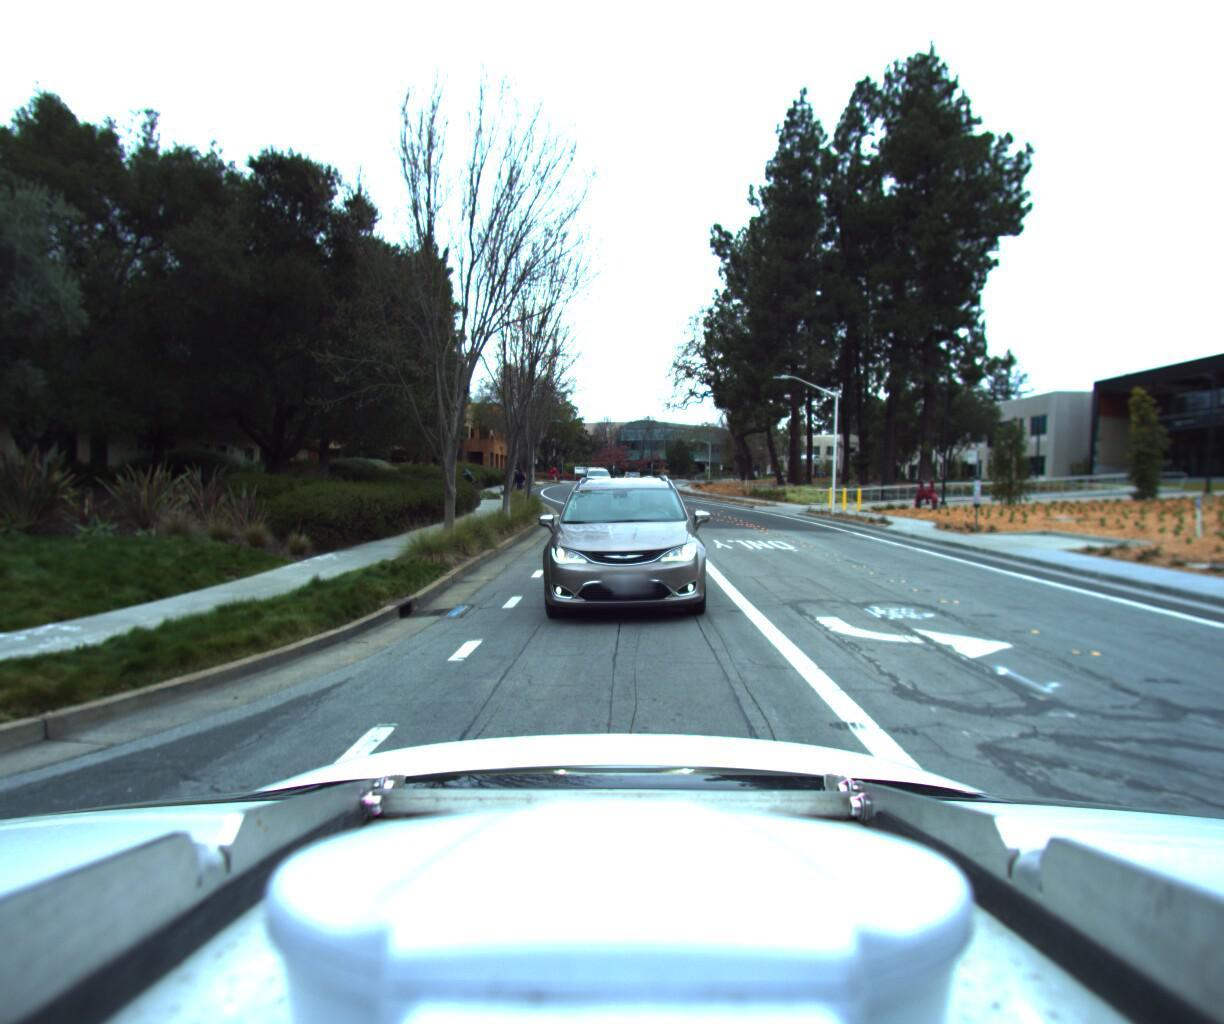car: (530, 462, 711, 626), (575, 456, 611, 495)
